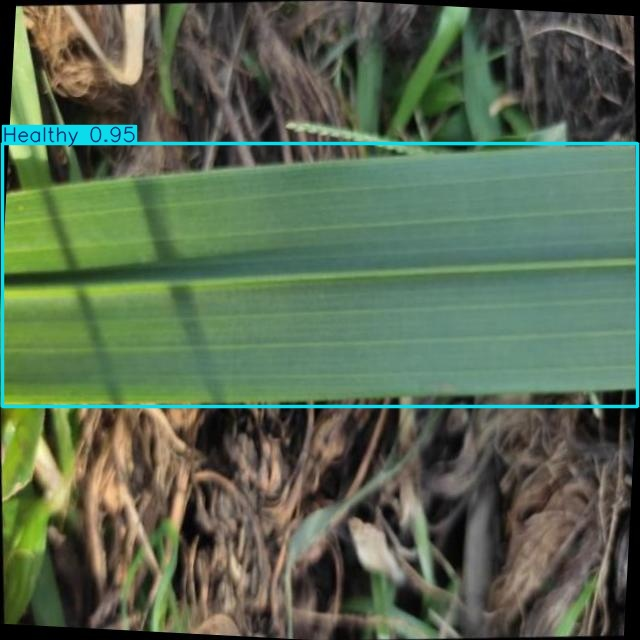Healthy: (2, 144, 638, 407)
